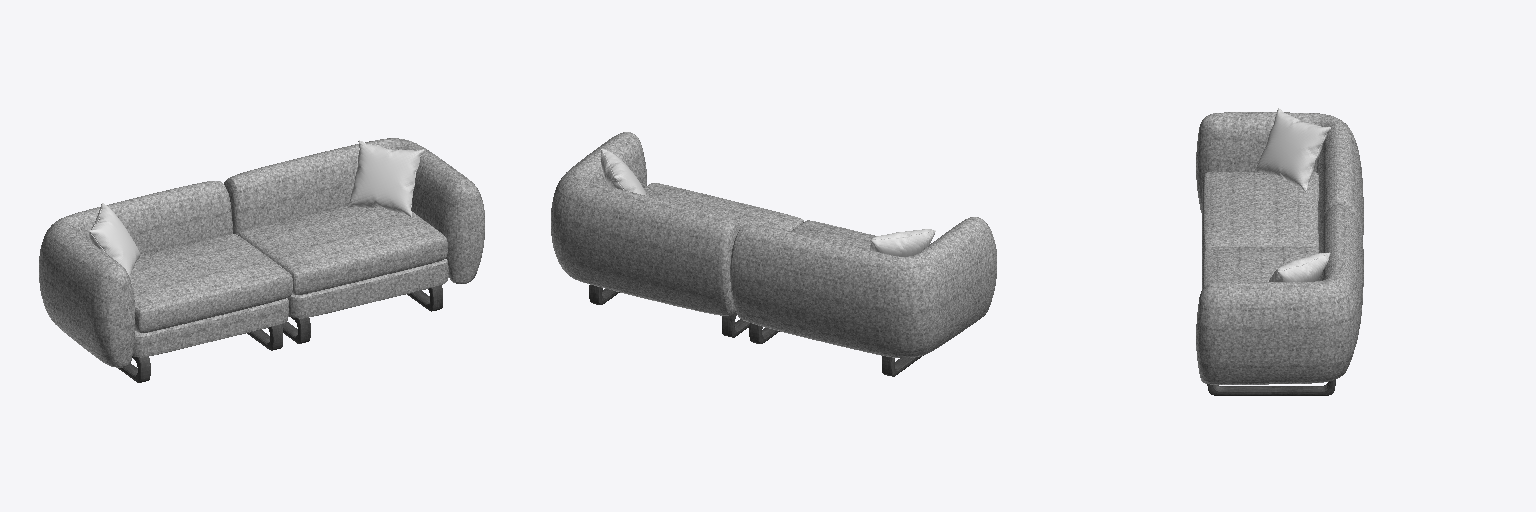
3 views of the same model, side by side, from view 1: azimuth 30°, elevation 25°; view 2: azimuth 150°, elevation 25°; view 3: azimuth 270°, elevation 25° (orthographic).
Parts seen in each view (by area): view 1: pCube8; view 2: pCube8; view 3: pCube8.
Boxes of the visible parts, box(x1,y1,x2,y2) form: pCube8: box(39, 138, 484, 382); pCube8: box(551, 132, 996, 376); pCube8: box(1196, 108, 1363, 395).
Size of the model in its own units: 7.47 by 2.42 by 2.78.
1 materials, 1 textured.